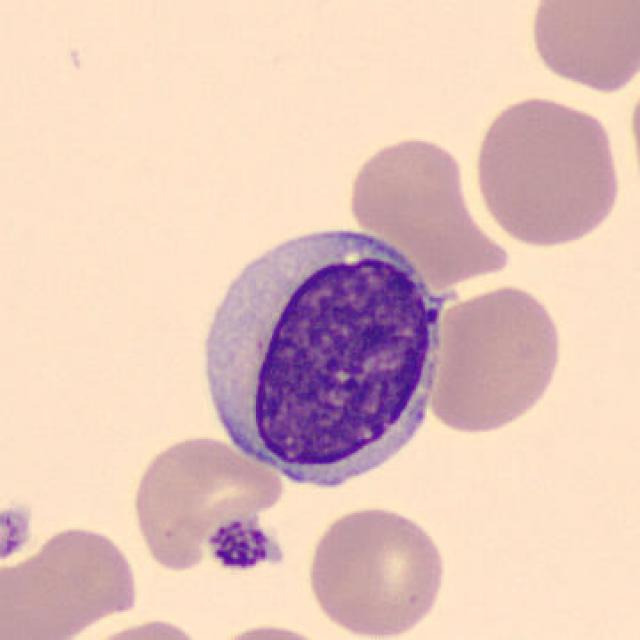Lymphocyte: (187, 213, 457, 502)
Platelets: (202, 511, 284, 575), (0, 501, 34, 564)
RBC: (470, 92, 628, 250), (421, 280, 567, 438), (126, 430, 284, 575), (302, 500, 449, 640), (2, 520, 144, 638), (343, 132, 473, 242), (523, 0, 638, 97), (68, 615, 215, 640), (203, 619, 343, 640)
